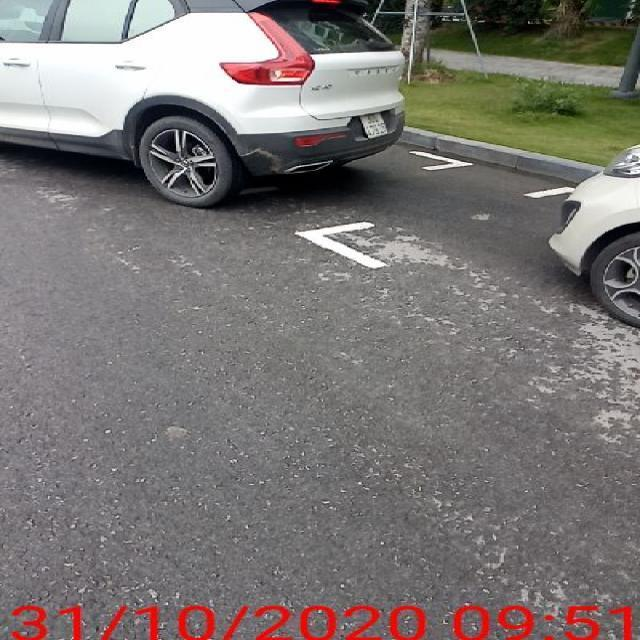bien_so_oto: (358, 112, 389, 140)
